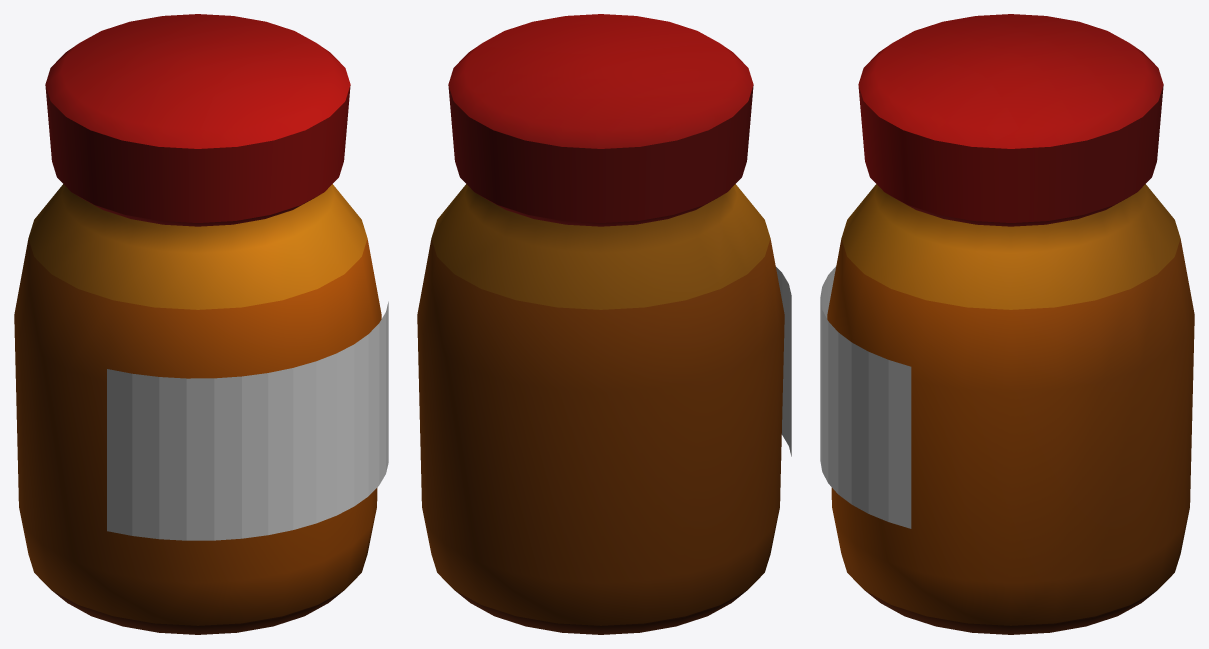
File: honey_jar_printed.fbx
3 views of the same model, side by side, from view 1: azimuth 30°, elevation 25°; view 2: azimuth 150°, elevation 25°; view 3: azimuth 270°, elevation 25° (orthographic).
Parts seen in each view (by area): view 1: Jar, Lid, Label; view 2: Jar, Lid, Label; view 3: Jar, Lid, Label.
Boxes of the visible parts, x1=… form: Jar: x1=14, y1=184, x2=381, y2=634; Lid: x1=45, y1=14, x2=350, y2=226; Label: x1=107, y1=301, x2=388, y2=540; Jar: x1=417, y1=184, x2=784, y2=634; Lid: x1=448, y1=14, x2=753, y2=226; Label: x1=776, y1=267, x2=791, y2=456; Jar: x1=827, y1=184, x2=1194, y2=634; Lid: x1=858, y1=14, x2=1163, y2=226; Label: x1=820, y1=266, x2=911, y2=528.
Bounding box in the file's own units: 0.078 × 0.118 × 0.0795.
